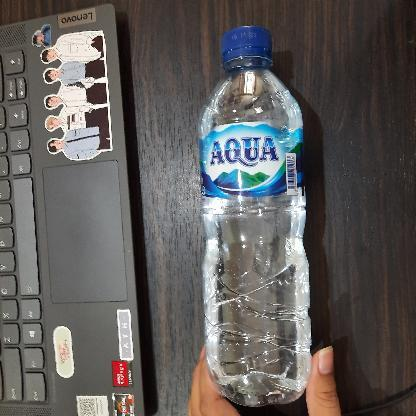Plastic Bottle: (195, 22, 315, 409)
